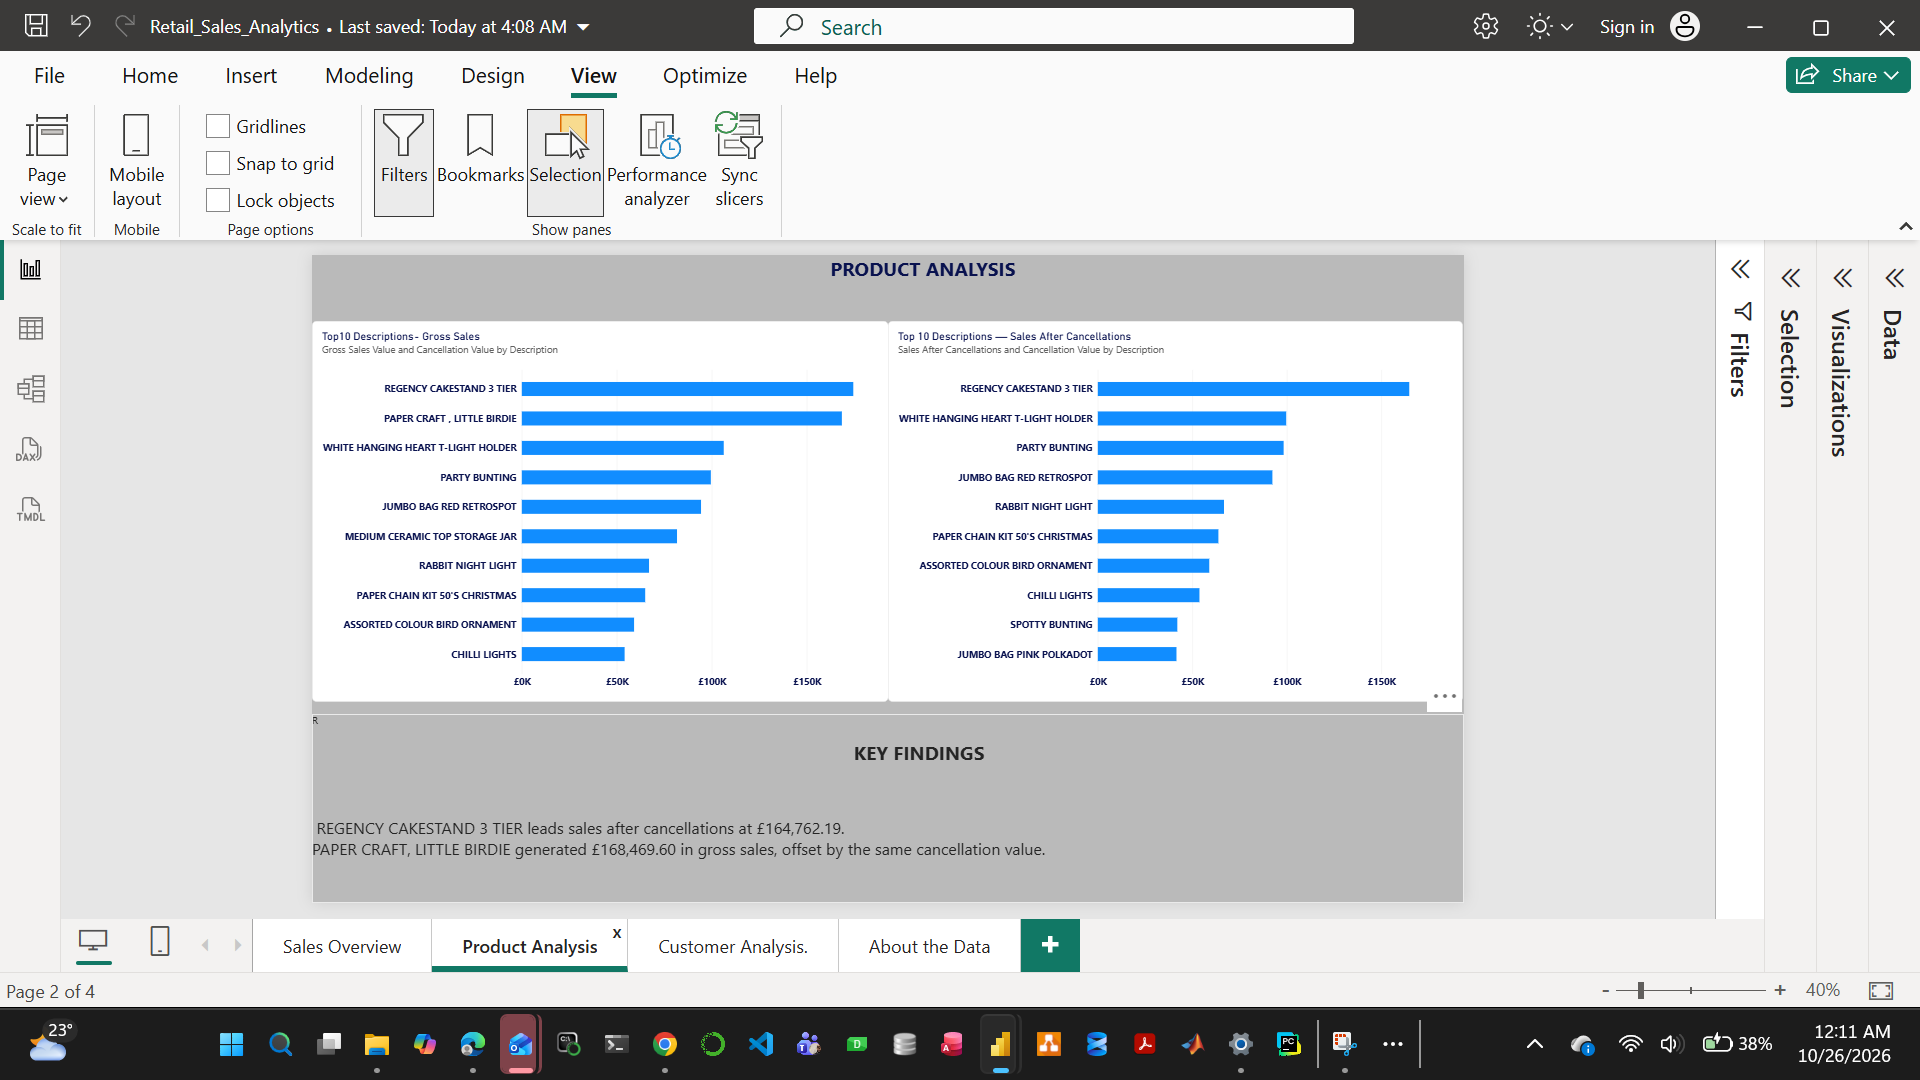

Layout of this report page (visuals, bound fields, positions):
{"tool":"powerbi","page":{"name":"Product Analysis","canvas":[1920,1080],"ordinal":1},"visuals":[{"type":"clusteredBarChart","title":"Top10 Descriptions- Gross Sales","fields":{"Category":["Retail_Analysis.Description"],"Y":["Retail_Analysis.Gross Sales Value"]},"box":[0,109.8,961,635],"z":0},{"type":"clusteredBarChart","title":"Top 10 Descriptions — Sales After Cancellations","fields":{"Category":["Retail_Analysis.Description"],"Y":["Retail_Analysis.Sales After Cancellations"]},"box":[959.1,109.8,958.1,635],"z":1000},{"type":"textbox","box":[0,765.4,1919.1,314.6],"z":2000},{"type":"textbox","box":[100.2,0,1622.4,88.3],"z":3000}]}

Visuals, with their boxes on the page's 1920x1080 design canvas (x1, y1, x2, y2). These are canvas units, not pixel positions in the 1920x1080 screenshot, which may show the page scaled, cropped or inside an application window:
"Top10 Descriptions- Gross Sales" clusteredBarChart: (x1=0, y1=110, x2=961, y2=745)
"Top 10 Descriptions — Sales After Cancellations" clusteredBarChart: (x1=959, y1=110, x2=1917, y2=745)
textbox: (x1=0, y1=765, x2=1919, y2=1080)
textbox: (x1=100, y1=0, x2=1723, y2=88)
